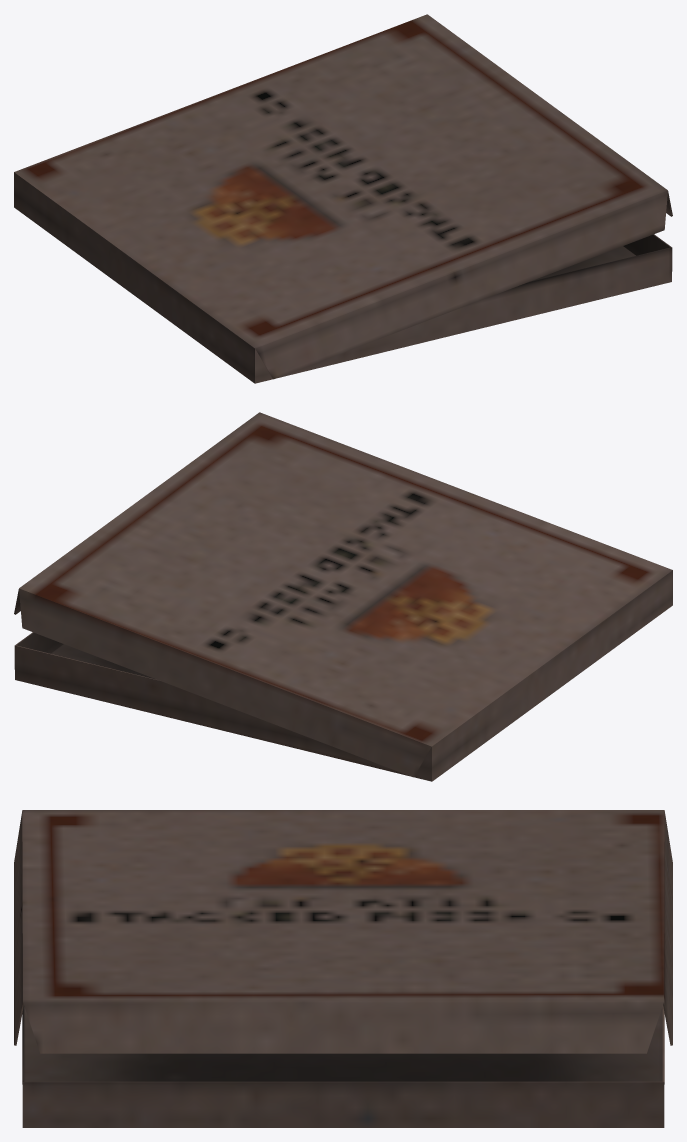
File: pizza_box2.obj
The picture shows the model from 3 angles, top to bottom: view 1: azimuth 30°, elevation 25°; view 2: azimuth 150°, elevation 25°; view 3: azimuth 270°, elevation 25°; orthographic projection. The views are drawn at different scales.
Parts seen in each view (by area): view 1: Mesh_0.001_Mesh_0.001_02___Default; view 2: Mesh_0.001_Mesh_0.001_02___Default; view 3: Mesh_0.001_Mesh_0.001_02___Default.
Boxes of the visible parts, x1,y1,x2,y2 form: Mesh_0.001_Mesh_0.001_02___Default: [14, 14, 672, 383]; Mesh_0.001_Mesh_0.001_02___Default: [14, 412, 672, 781]; Mesh_0.001_Mesh_0.001_02___Default: [14, 810, 672, 1127].
Size of the model in its own units: 0.6541 by 0.1361 by 0.6602.
1 material, 1 textured.
